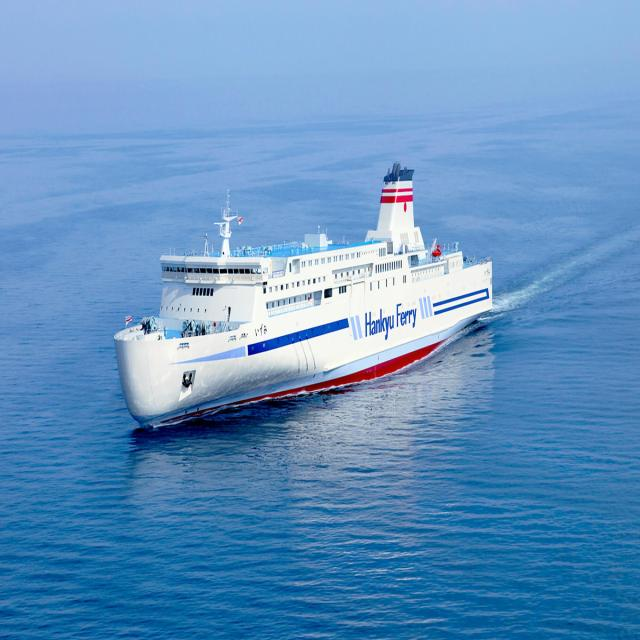boat: (104, 145, 506, 447)
